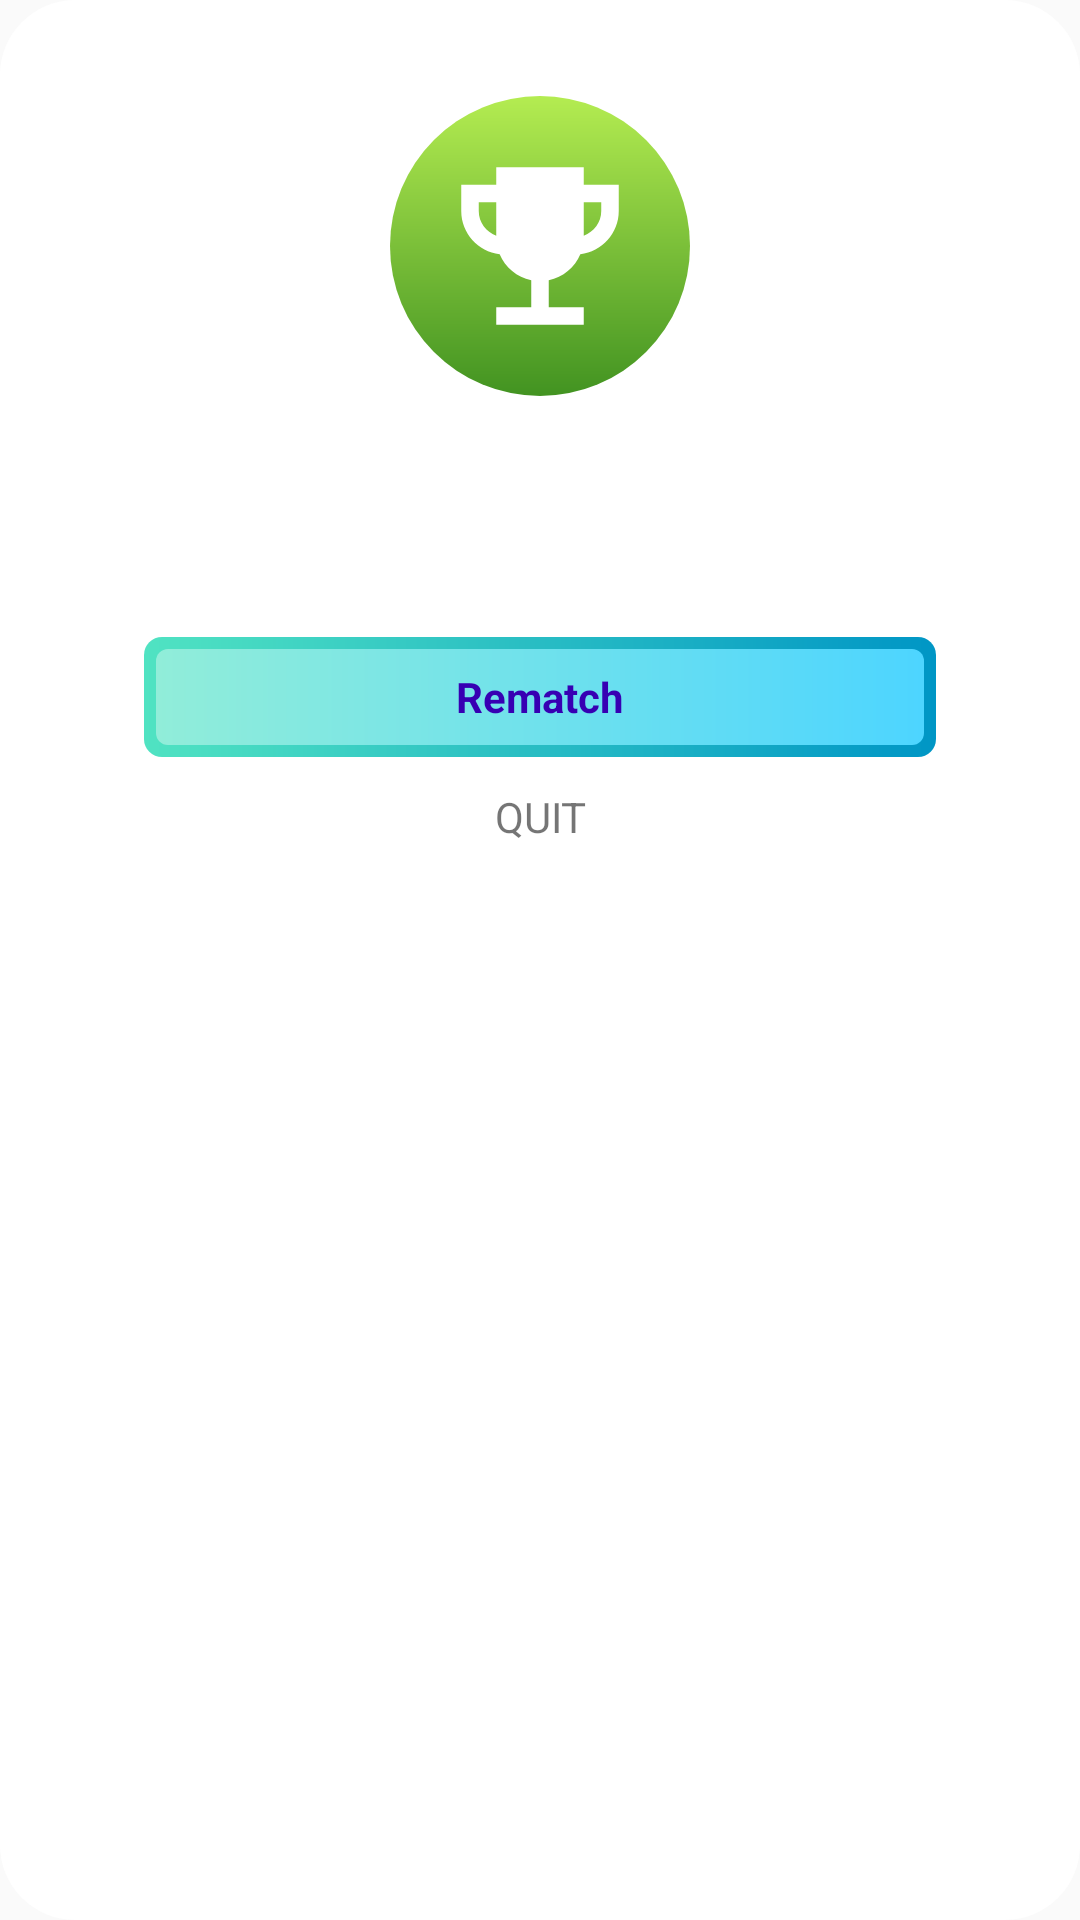

Icons on this 1080px×1920px Android screen, each with the point to tap as [x,y]:
trophy won: [540,246]
